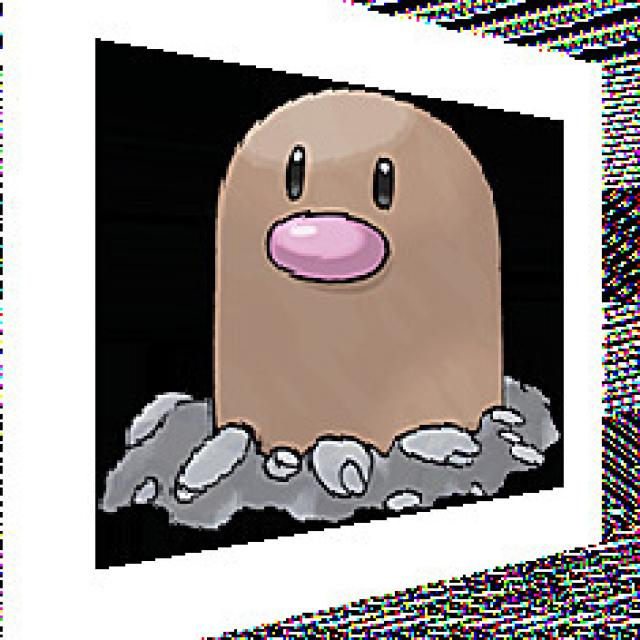Diglett: (200, 77, 513, 462)
